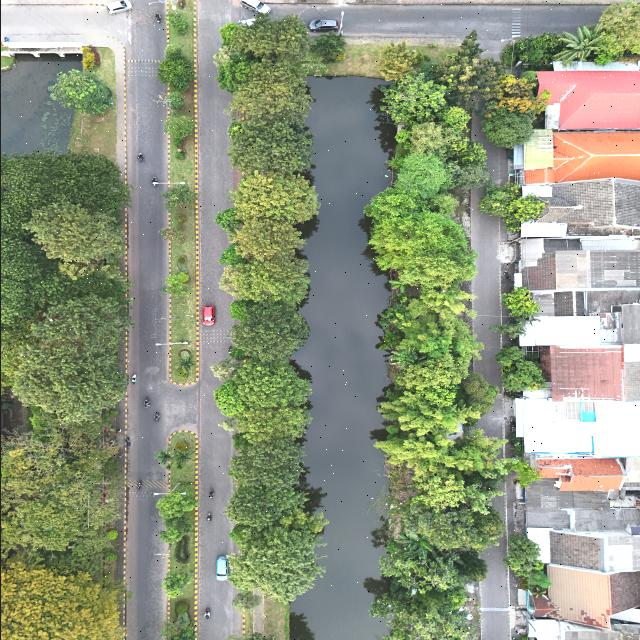Tree: (156, 56, 192, 86), (153, 494, 195, 518), (156, 518, 192, 544), (161, 185, 197, 209), (163, 114, 195, 140), (162, 572, 194, 598), (488, 320, 528, 340), (492, 346, 524, 364), (166, 13, 190, 35), (170, 448, 198, 466), (524, 571, 552, 588), (172, 356, 198, 373), (164, 90, 186, 108), (163, 44, 183, 60), (154, 450, 174, 466), (174, 272, 190, 282), (173, 214, 188, 224), (173, 152, 185, 160)
